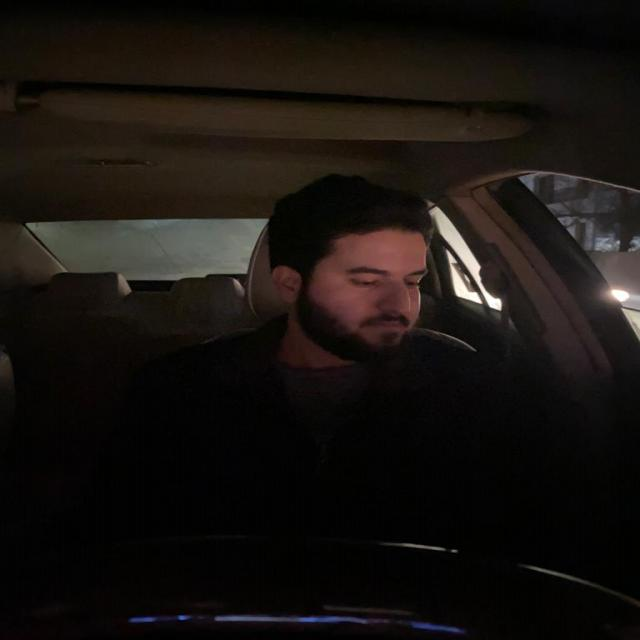person: (288, 185, 447, 356)
